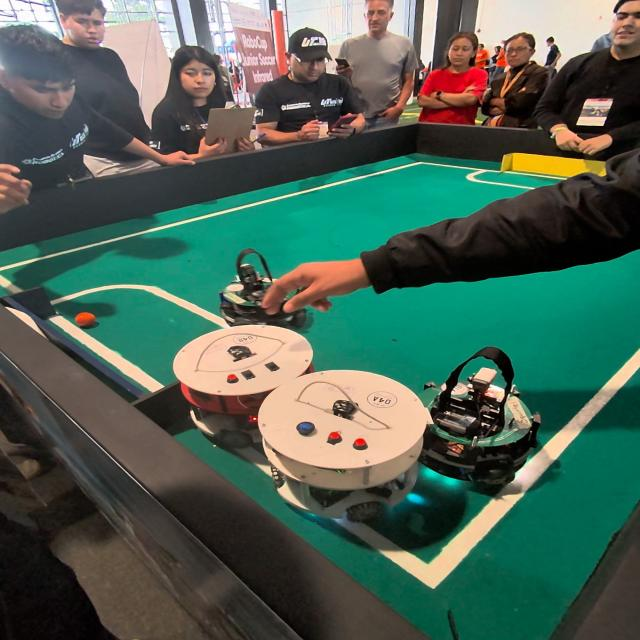Robot: (260, 364, 430, 526), (424, 342, 552, 502), (171, 322, 322, 438), (215, 243, 316, 331)
pelota: (74, 311, 97, 328)
